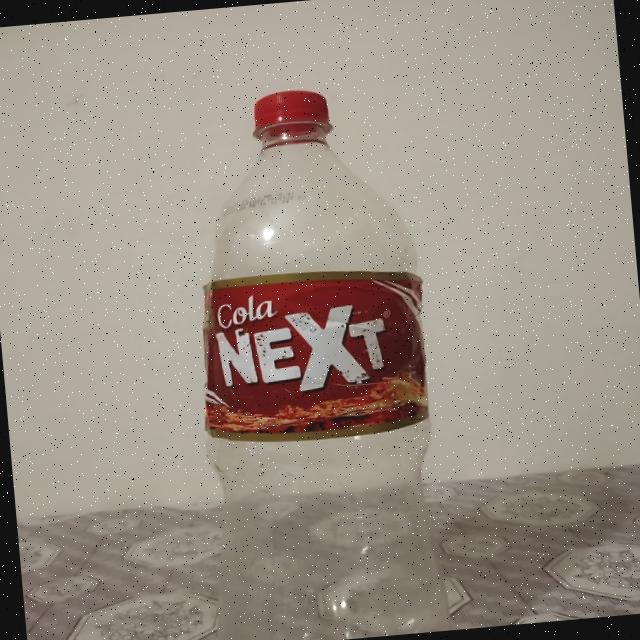bottle: (179, 82, 455, 640)
cap: (251, 88, 331, 128)
label: (193, 264, 440, 450)
